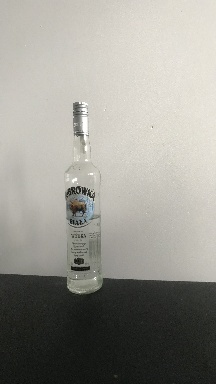butelka: (62, 98, 104, 297)
